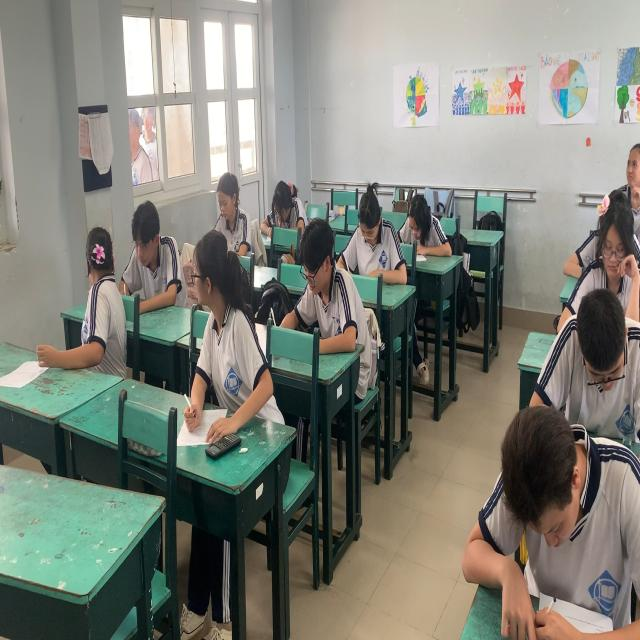cheating: (188, 237, 254, 427), (64, 220, 122, 364)
not_cheating: (459, 403, 624, 627), (556, 281, 636, 402), (299, 215, 344, 354), (118, 188, 173, 278), (594, 194, 638, 284), (349, 180, 386, 264), (402, 171, 439, 247), (213, 171, 243, 240), (264, 171, 298, 222)
